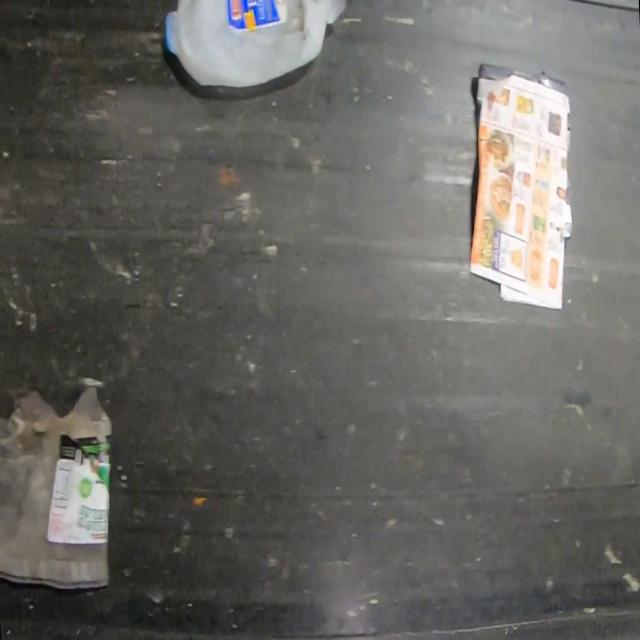rigid_plastic: (0, 385, 112, 590), (165, 0, 347, 87)
